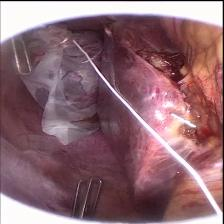Grasper: (68, 174, 108, 222), (6, 29, 34, 77)
Specimen Bag: (18, 22, 108, 148)
